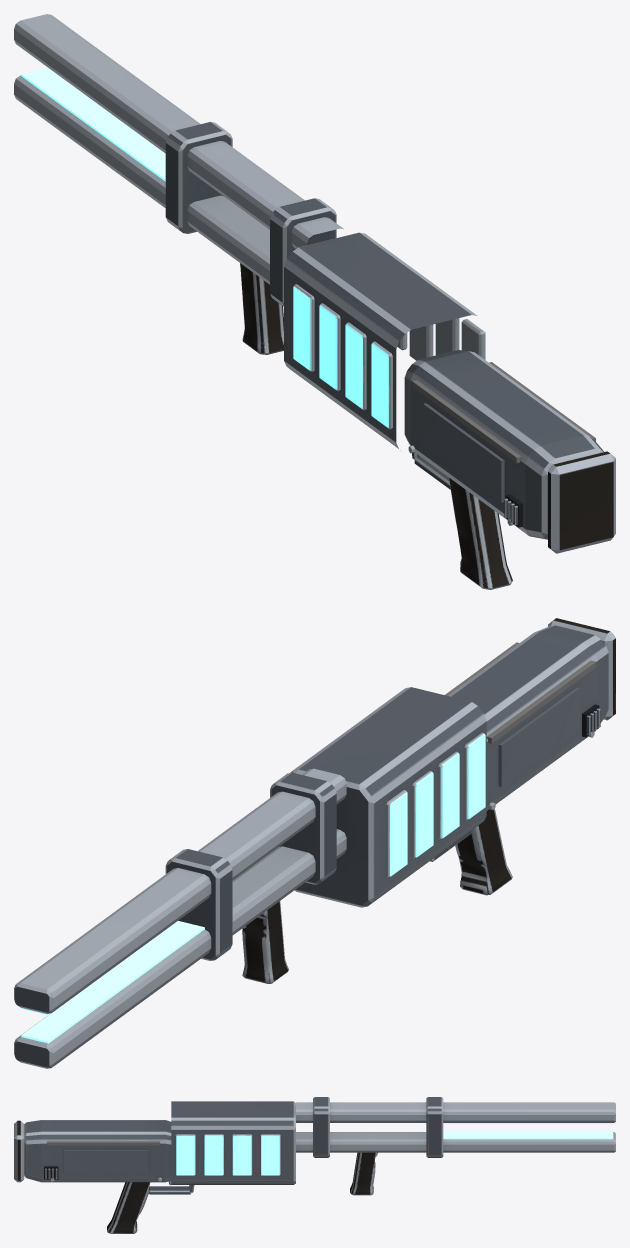
3 views of the same model, one above another, from view 1: azimuth 30°, elevation 25°; view 2: azimuth 150°, elevation 25°; view 3: azimuth 270°, elevation 25° (orthographic). The views are drawn at different scales.
Visible parts, largest first — view 1: body; view 2: body; view 3: body.
Part boxes in pixels (x1=…): body: x1=14, y1=14, x2=615, y2=589; body: x1=14, y1=618, x2=615, y2=1068; body: x1=14, y1=1097, x2=615, y2=1233.
Size of the model in its own units: 0.108 by 0.25 by 1.06.
1 material, 1 textured.
